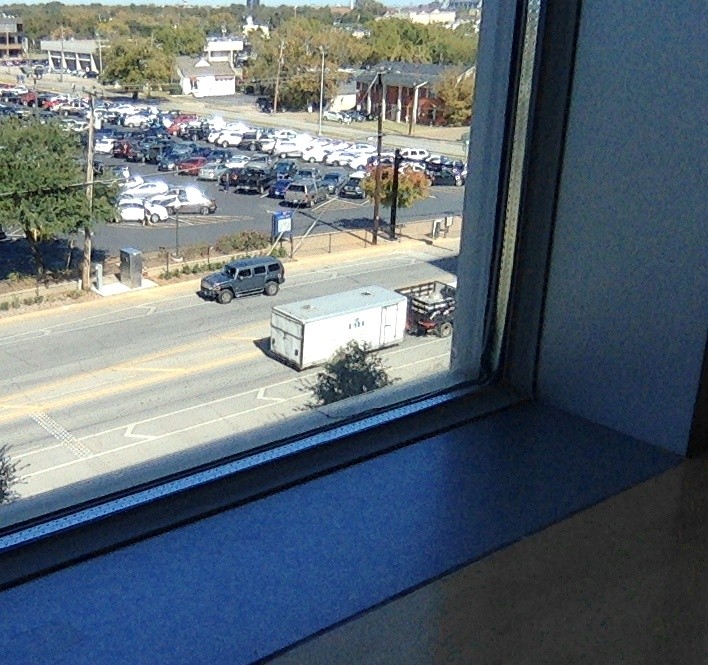car: (300, 300, 408, 365)
